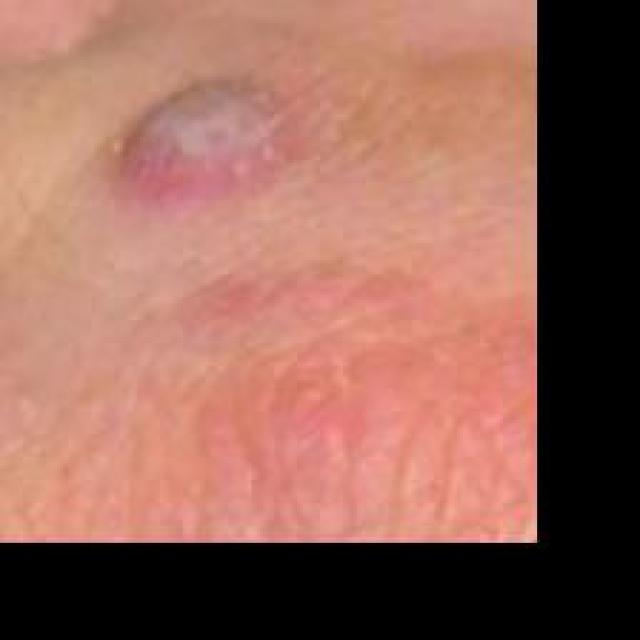monkeypox: (15, 0, 531, 520)
